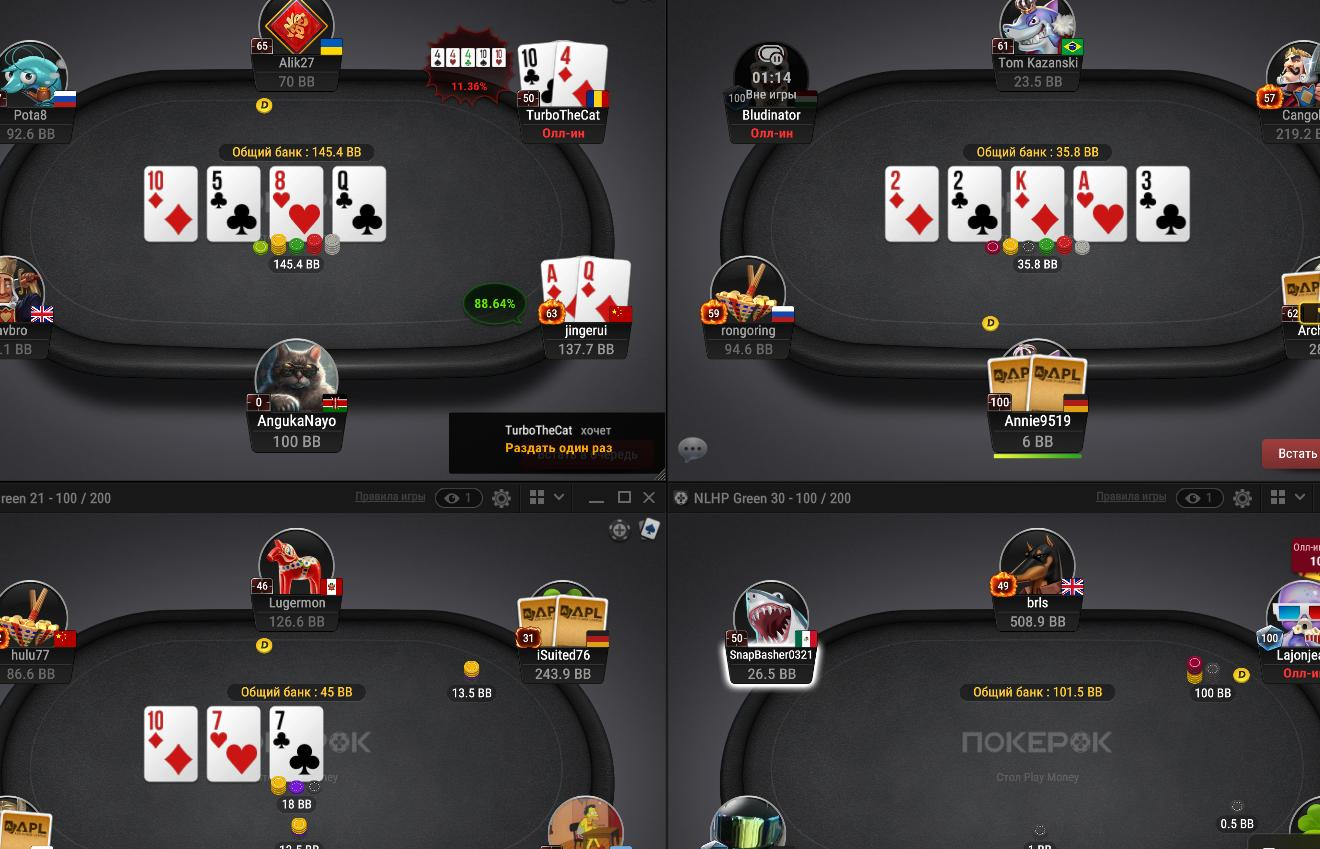10c: (517, 41, 557, 108)
10d: (144, 164, 199, 243), (144, 707, 198, 779)
2c: (948, 166, 1004, 243)
2d: (887, 167, 938, 240)
3c: (1137, 168, 1191, 241)
4d: (555, 40, 607, 108)
5c: (209, 164, 262, 242)
7c: (270, 704, 323, 784)
7h: (207, 707, 261, 780)
8h: (269, 164, 326, 243)
Ad: (539, 258, 578, 322)
Ah: (1073, 167, 1126, 239)
Kd: (1012, 164, 1067, 240)
Qc: (332, 167, 388, 240)
Qd: (577, 254, 632, 324)
